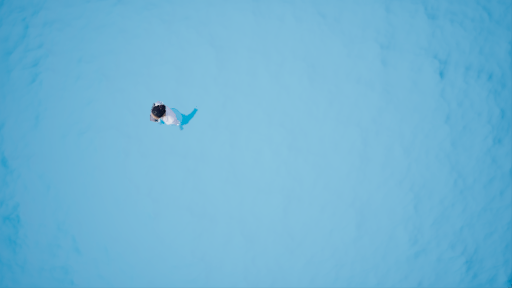person: (147, 100, 205, 132)
